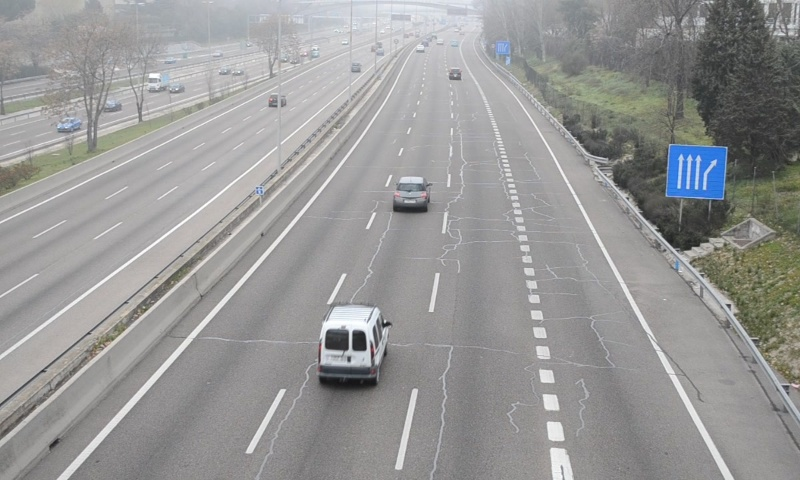car: (394, 175, 430, 211)
van: (319, 304, 387, 384)
